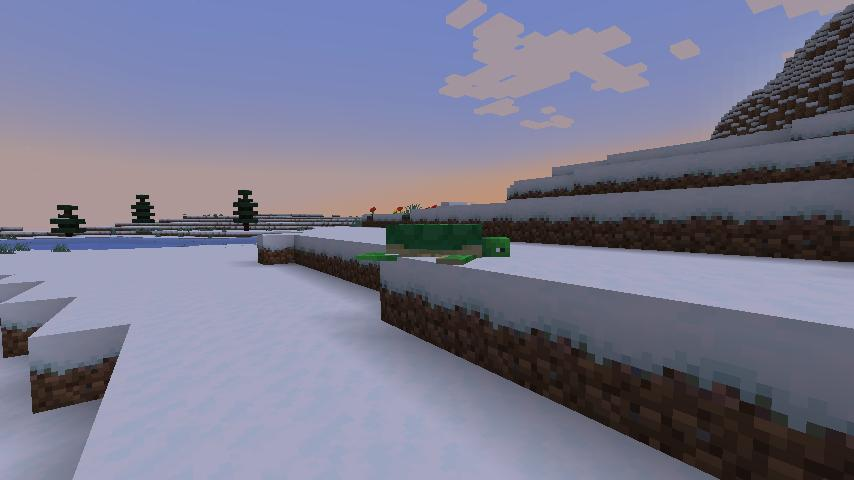turtle: (357, 215, 513, 272)
